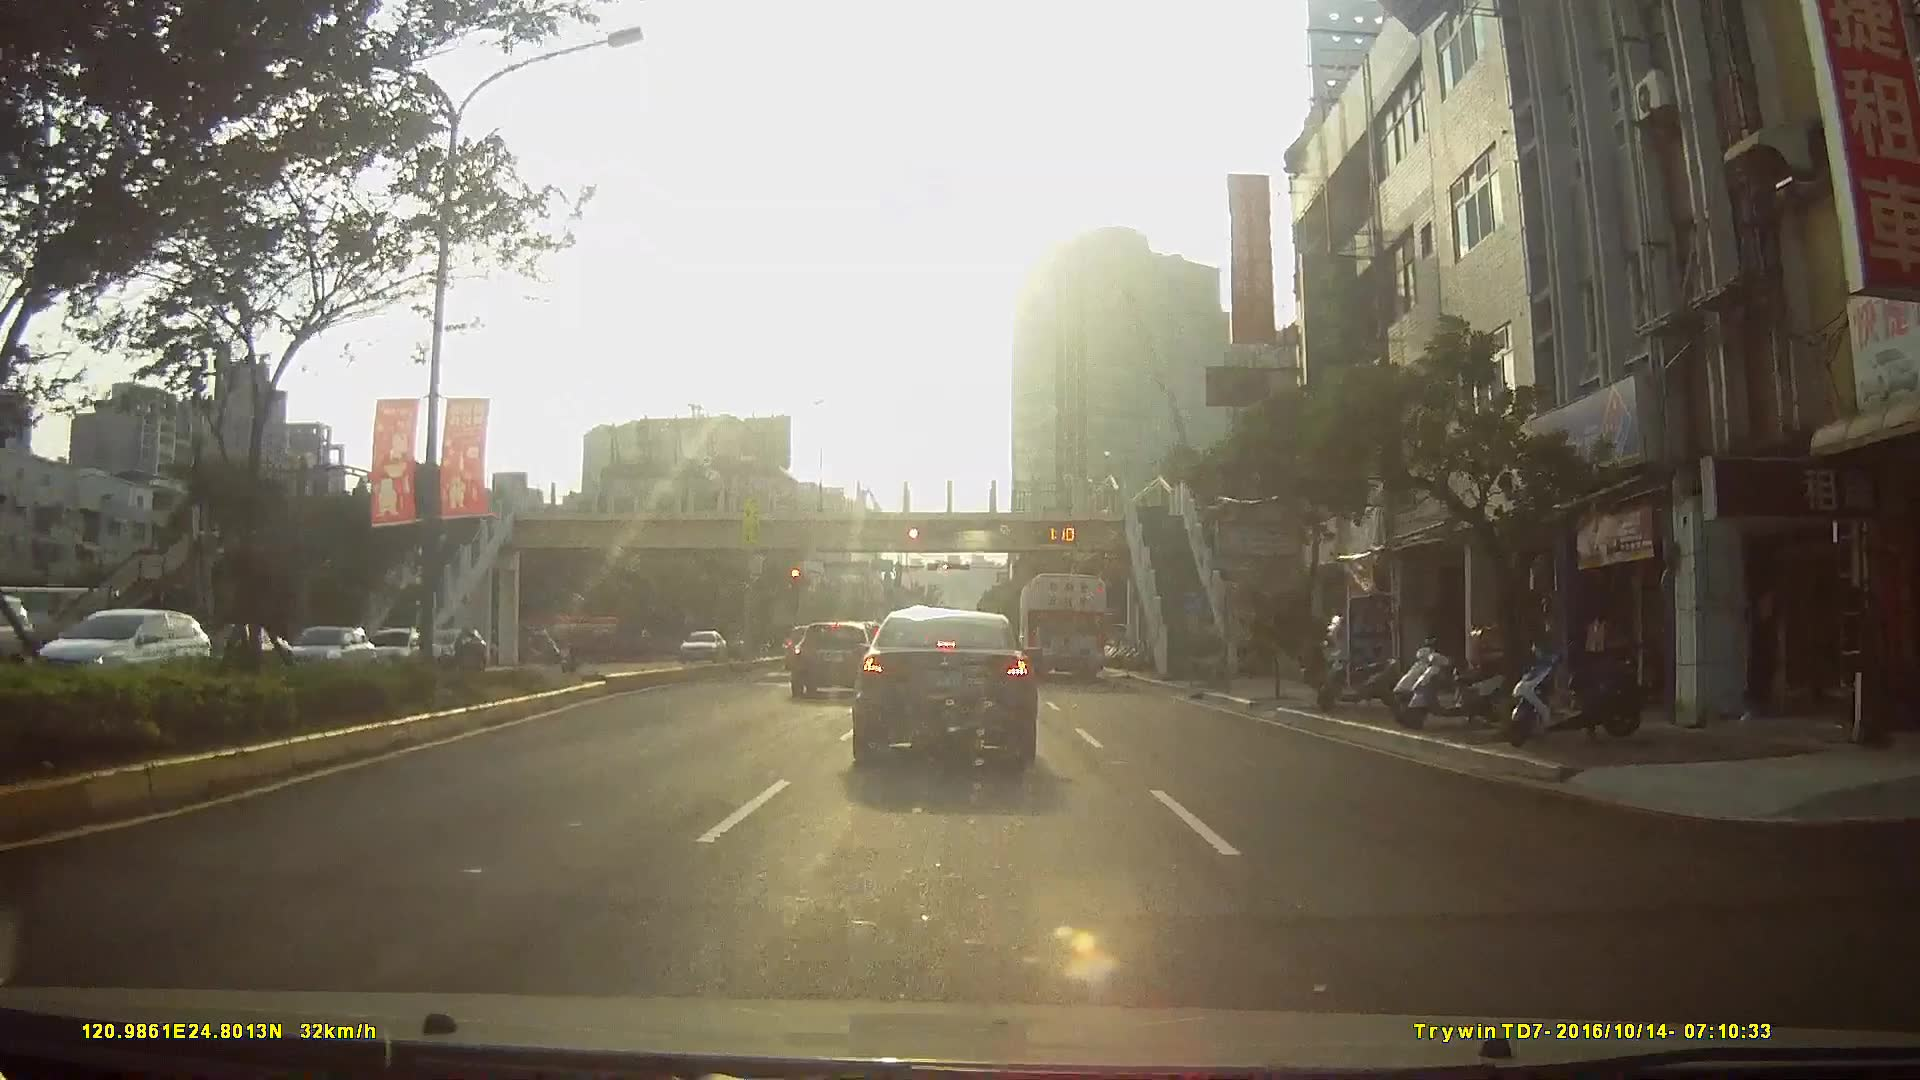rider: (556, 624, 588, 673)
vehicle: (849, 605, 1040, 765), (1016, 567, 1111, 679), (786, 616, 877, 698), (282, 624, 376, 675), (419, 624, 486, 669), (675, 626, 727, 664)
